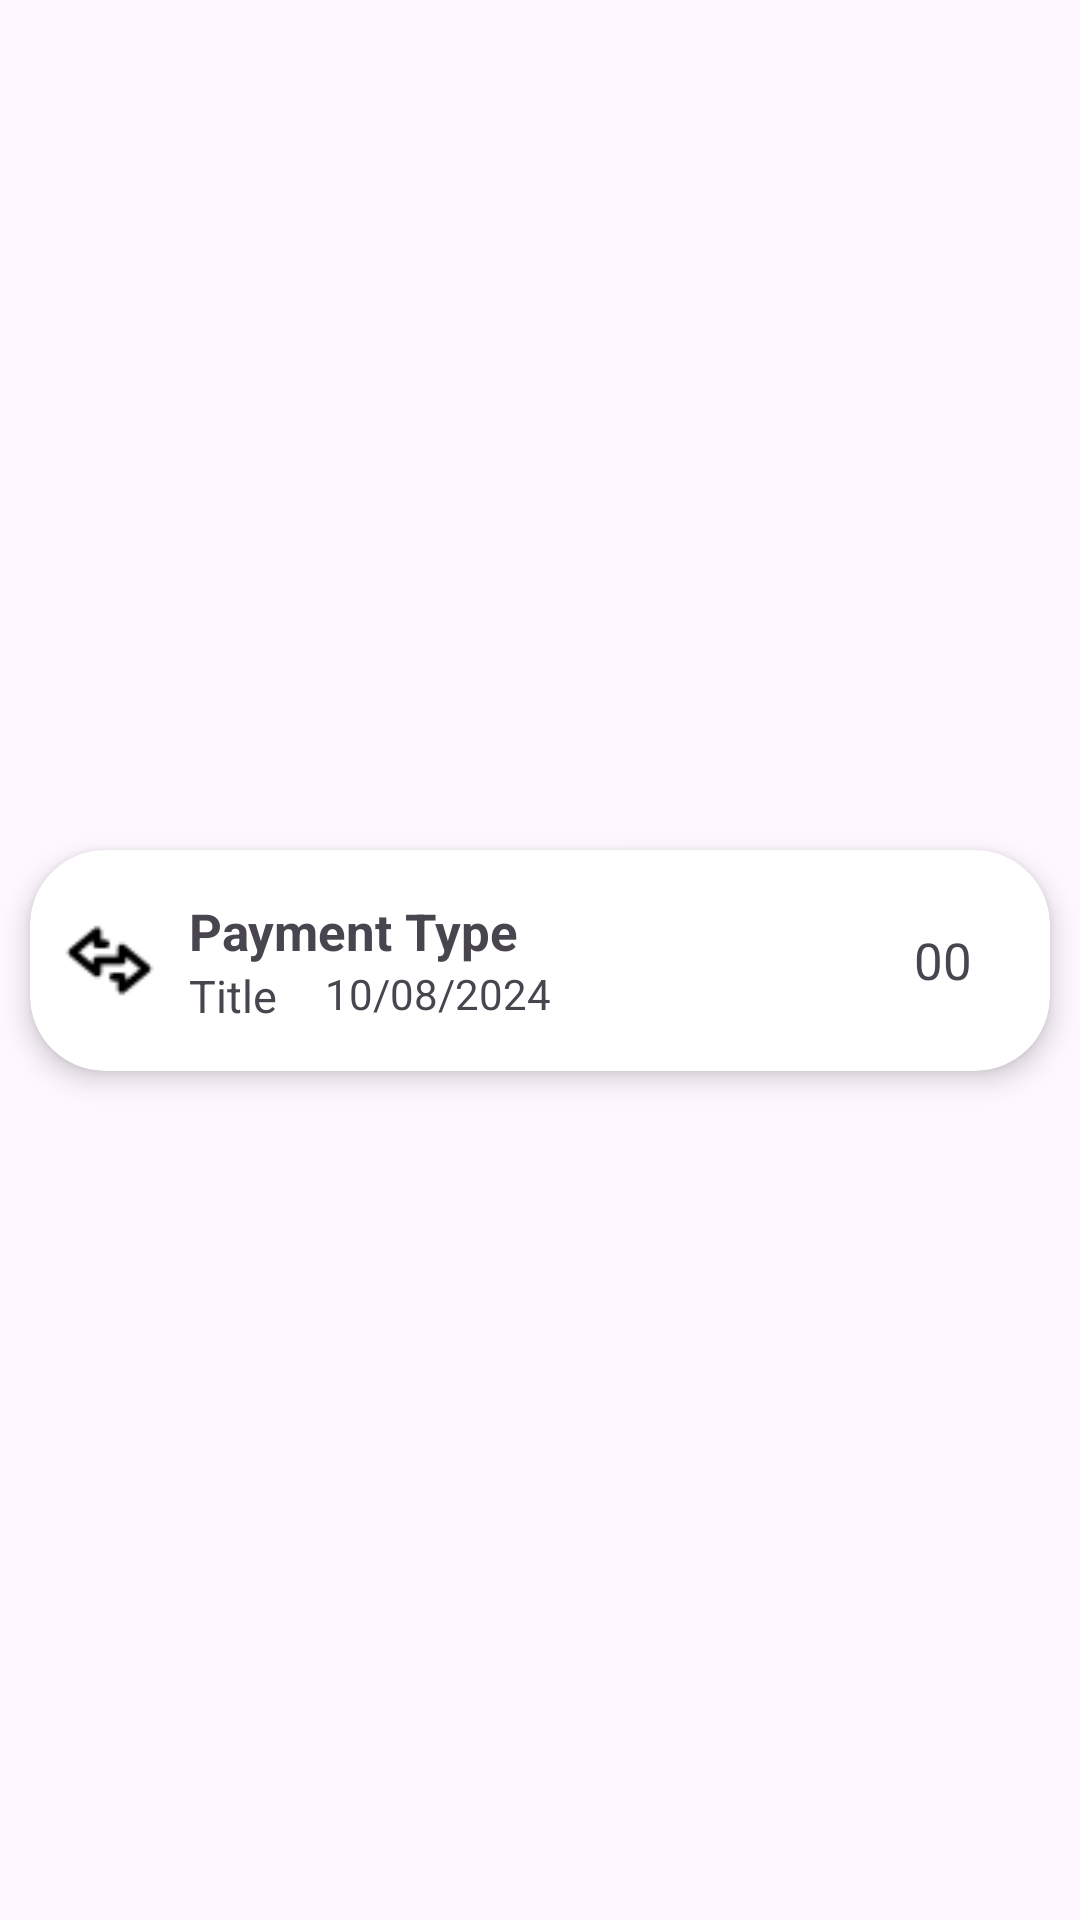

Point at icon controls on the screen. Image size 1080w x 1920h, points as (x=x, y=y).
transaction: (x=109, y=960)
